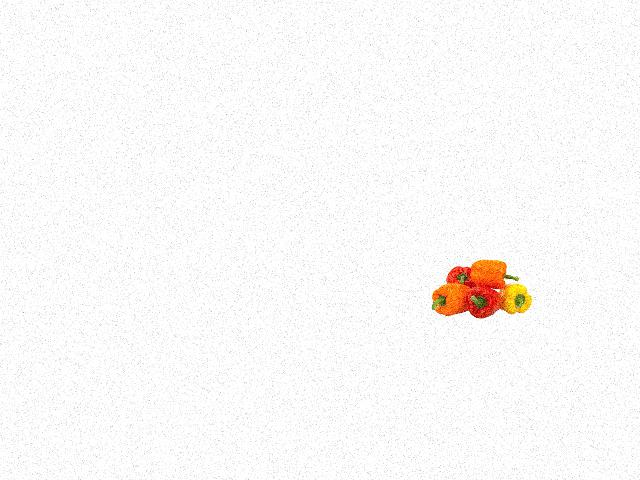bell_pepper: (423, 279, 472, 319)
